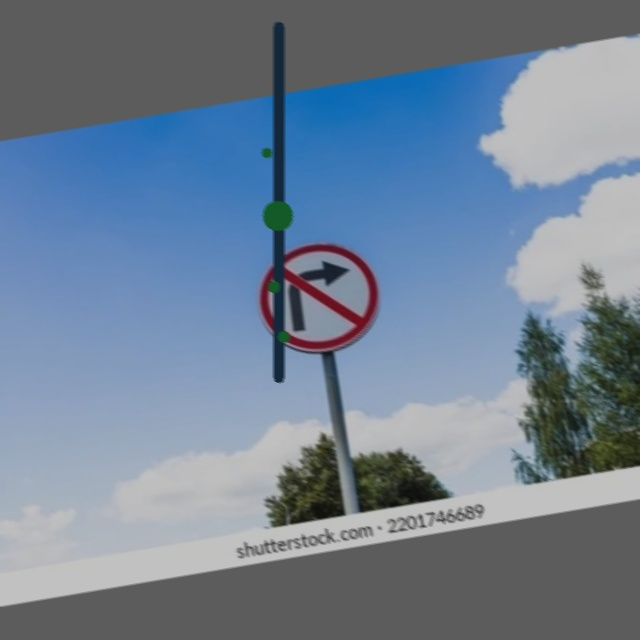Right_Turn_Prohibited: (250, 231, 387, 364)
